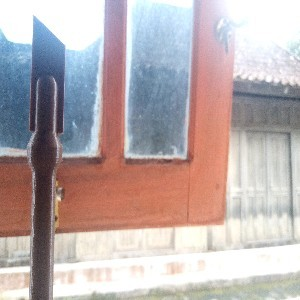cutter: (25, 13, 67, 300)
